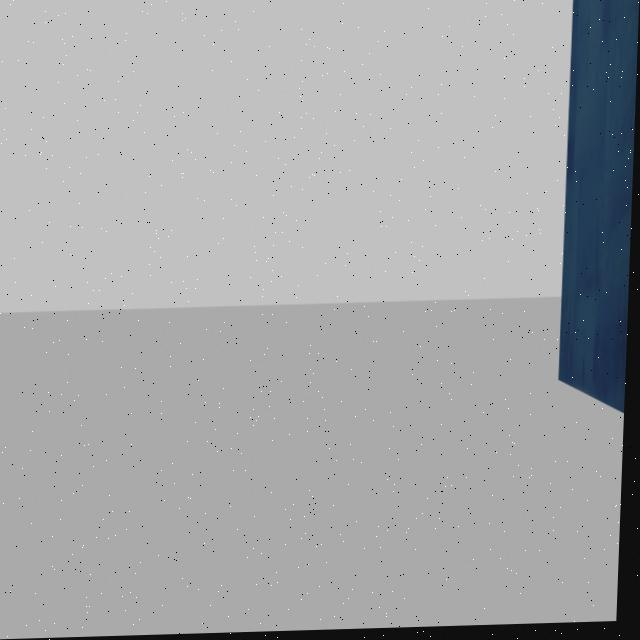shelf: (538, 0, 640, 438)
